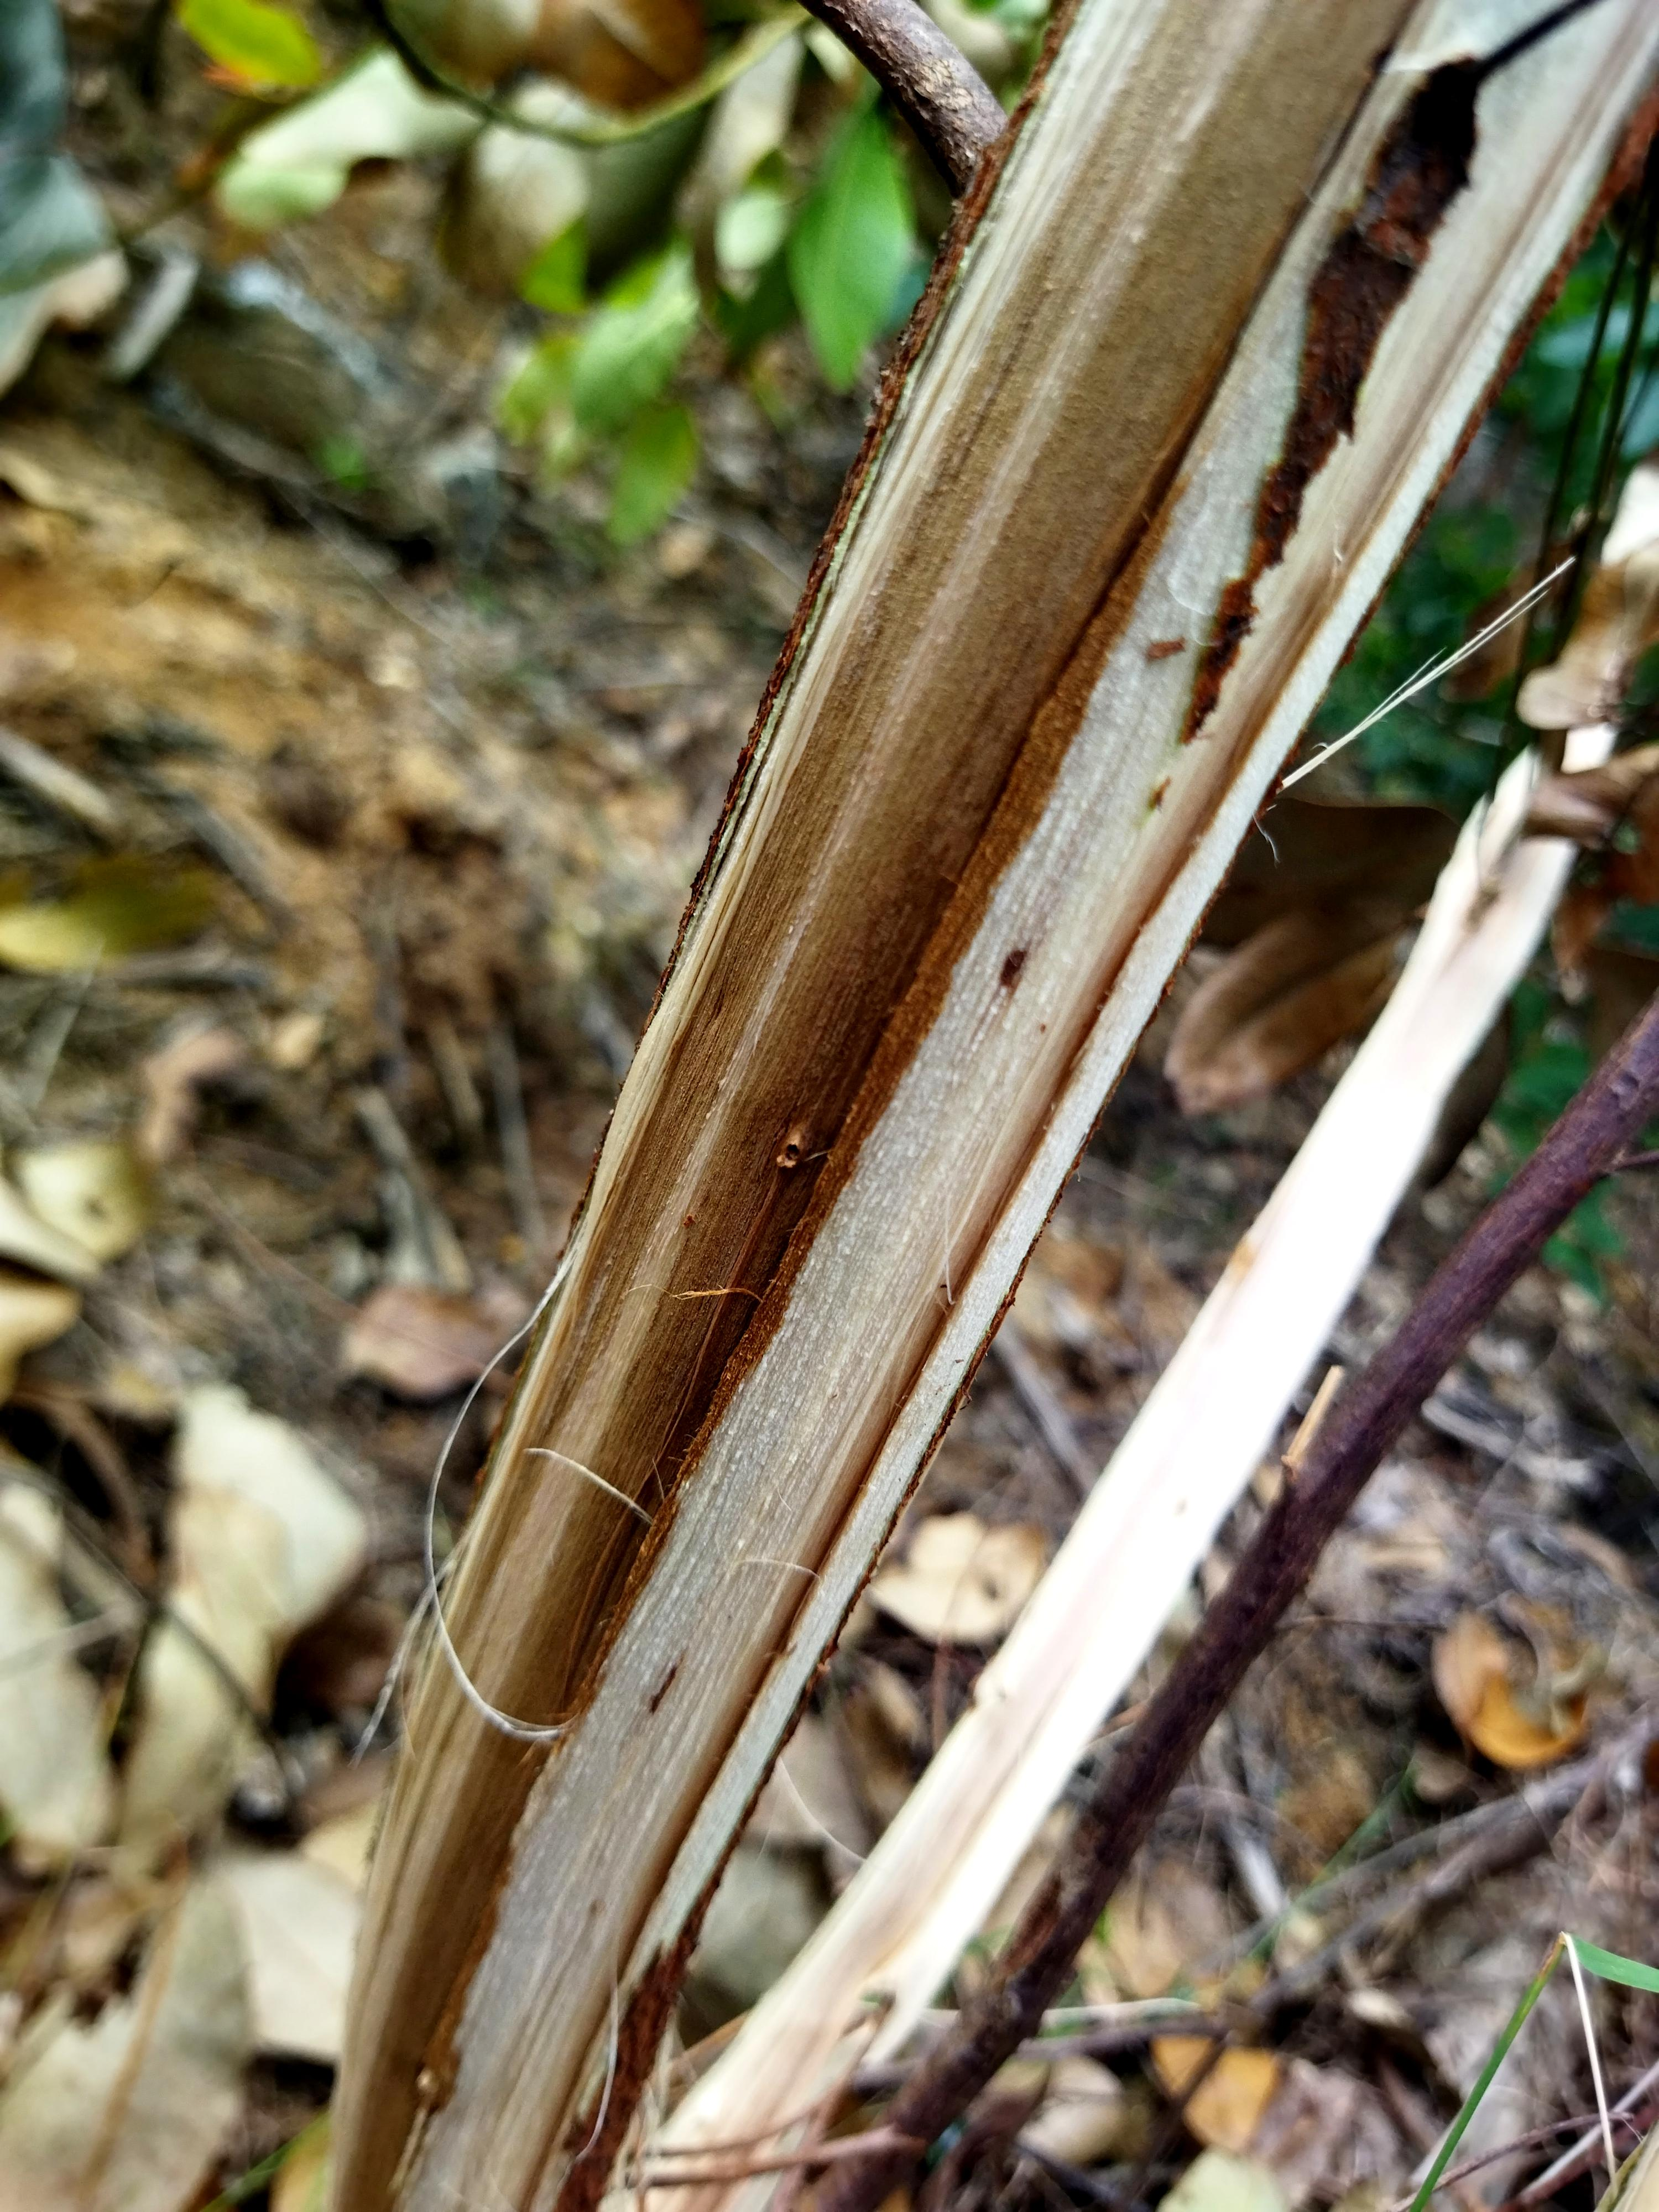Ralstonia: (333, 0, 1460, 2202)
